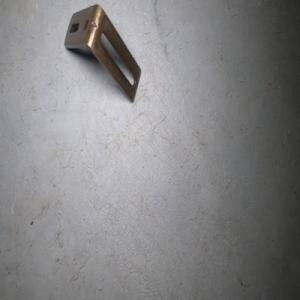MetalPart: (62, 3, 142, 103)
